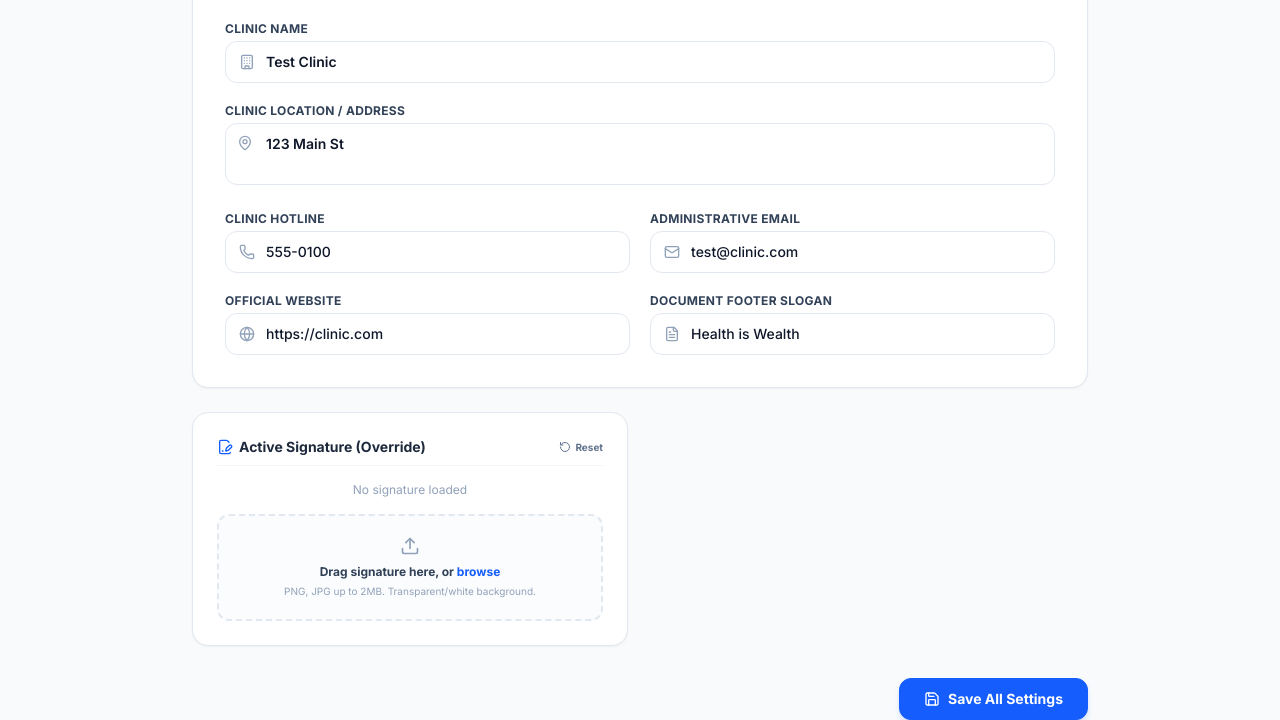
Test case: SettingsPage › shows success message after save
(page scrolled)
Click the button "Save All Settings": [994, 699] box [899, 678, 1088, 719]
(page scrolled)
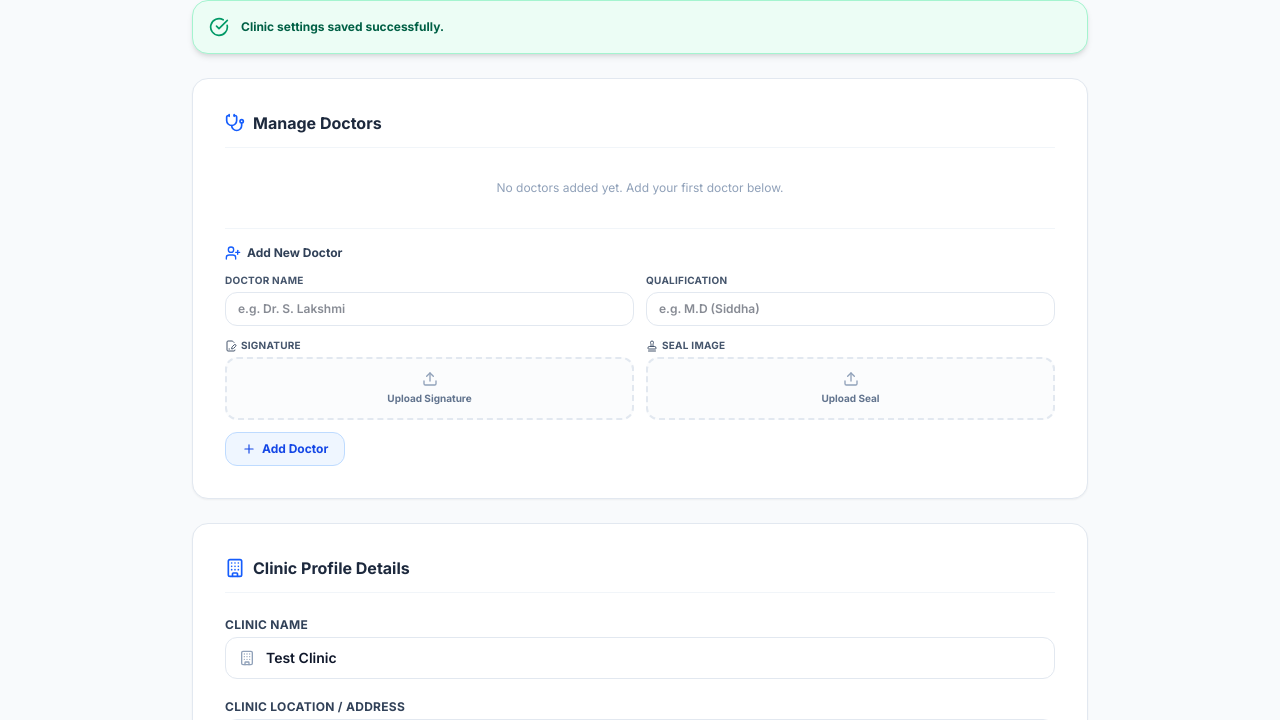
Expected: the text "Clinic settings saved successfully." is shown, [241, 19, 444, 35]
